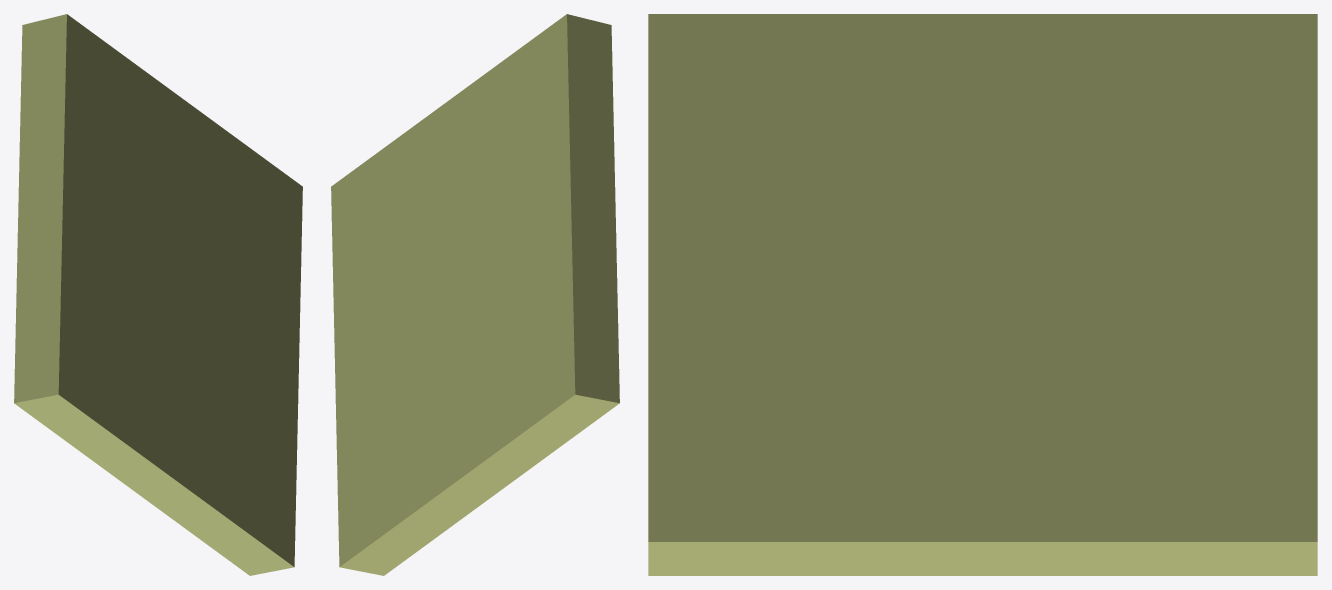
The picture shows the model from 3 angles, left to right: view 1: azimuth 30°, elevation 25°; view 2: azimuth 150°, elevation 25°; view 3: azimuth 270°, elevation 25°; orthographic projection. The views are drawn at different scales.
Parts seen in each view (by area): view 1: 0_2_1_3_0_0_2_3_0_0_1; view 2: 0_2_1_3_0_0_2_3_0_0_1; view 3: 0_2_1_3_0_0_2_3_0_0_1.
Part boxes in pixels (left/top/right/bottom): 0_2_1_3_0_0_2_3_0_0_1: left=14, top=14, right=302, bottom=575; 0_2_1_3_0_0_2_3_0_0_1: left=331, top=14, right=619, bottom=575; 0_2_1_3_0_0_2_3_0_0_1: left=648, top=14, right=1317, bottom=575.
Size of the model in its own units: 1.17 by 7.97 by 9.
